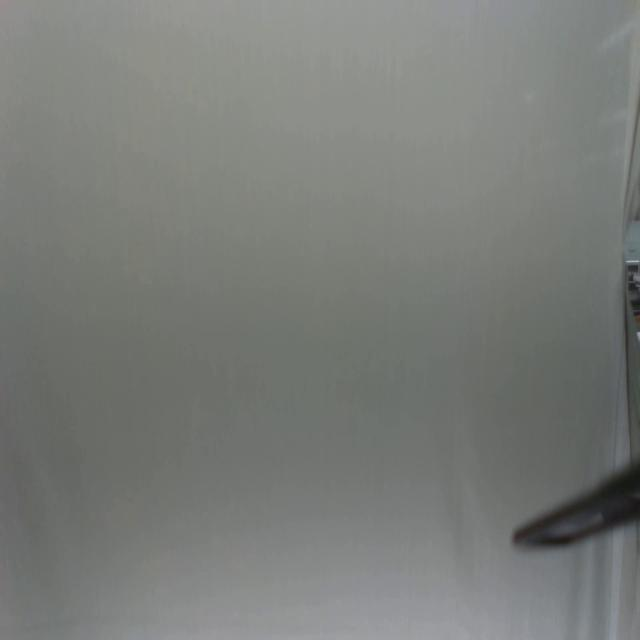hole: (621, 214, 640, 346)
